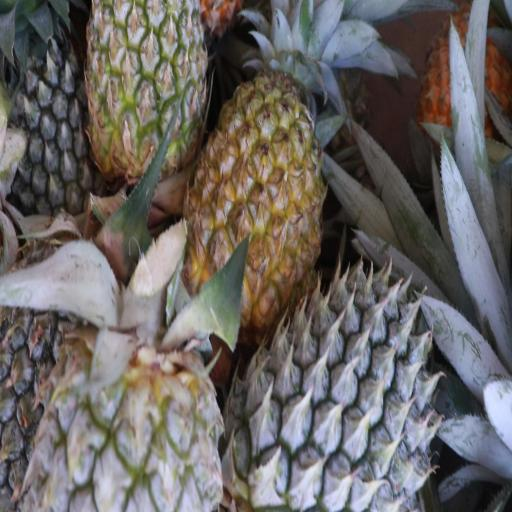------------------------------: (84, 0, 205, 180)
Pineapple - v8 v1: (190, 80, 326, 323)
